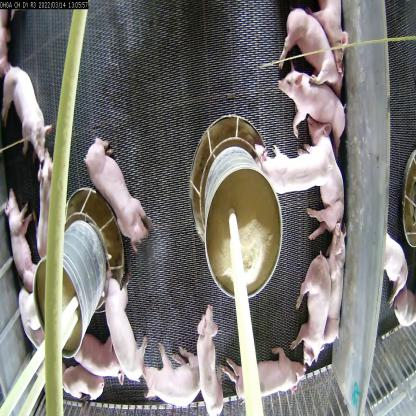Pig: (86, 140, 153, 248), (274, 0, 341, 96), (294, 110, 342, 235), (275, 65, 343, 149), (94, 276, 150, 377), (0, 57, 46, 160), (250, 131, 326, 192), (319, 231, 357, 347), (225, 347, 306, 398), (193, 307, 228, 415), (30, 144, 61, 262), (142, 348, 201, 406), (5, 184, 38, 286), (296, 261, 327, 357), (61, 356, 112, 406), (12, 294, 44, 368)
